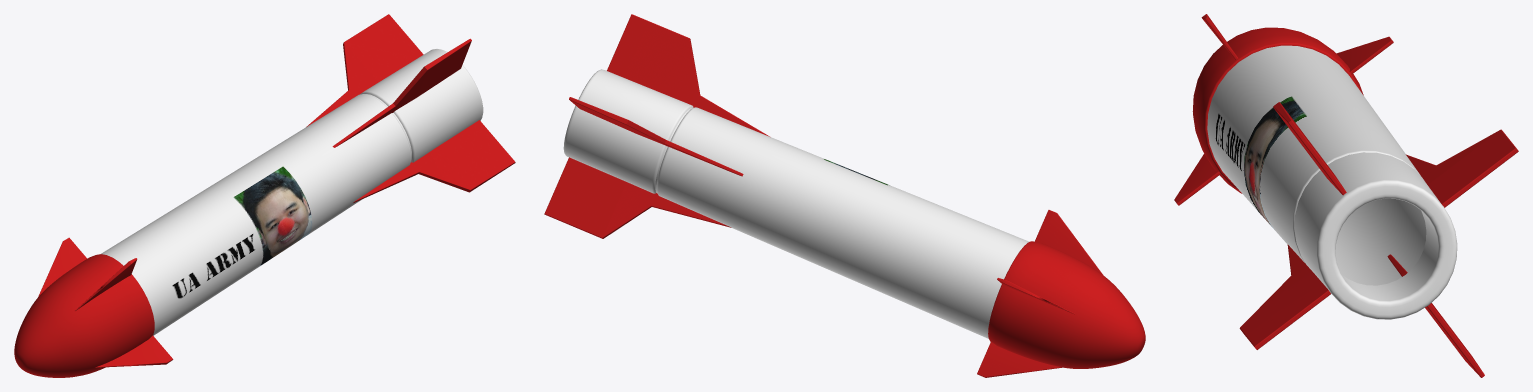
Rendered from rocket.obj.
3 renders of one model, left to right at view 1: azimuth 30°, elevation 25°; view 2: azimuth 150°, elevation 25°; view 3: azimuth 270°, elevation 25°, orthographic. The views are drawn at different scales.
Visible parts, largest first — view 1: rocket; view 2: rocket; view 3: rocket.
Boxes of the visible parts, box(x1,y1,x2,y2) form: rocket: box(14, 14, 515, 377); rocket: box(544, 14, 1145, 377); rocket: box(1174, 14, 1518, 377).
Size of the model in its own units: 164 by 74.63 by 60.81.
1 material, 1 textured.
